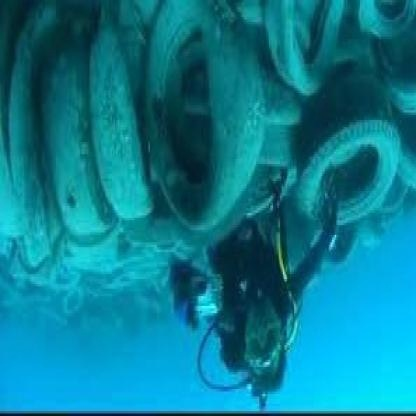tire: (154, 2, 252, 237), (62, 25, 154, 233), (298, 73, 412, 230), (260, 2, 346, 103)
